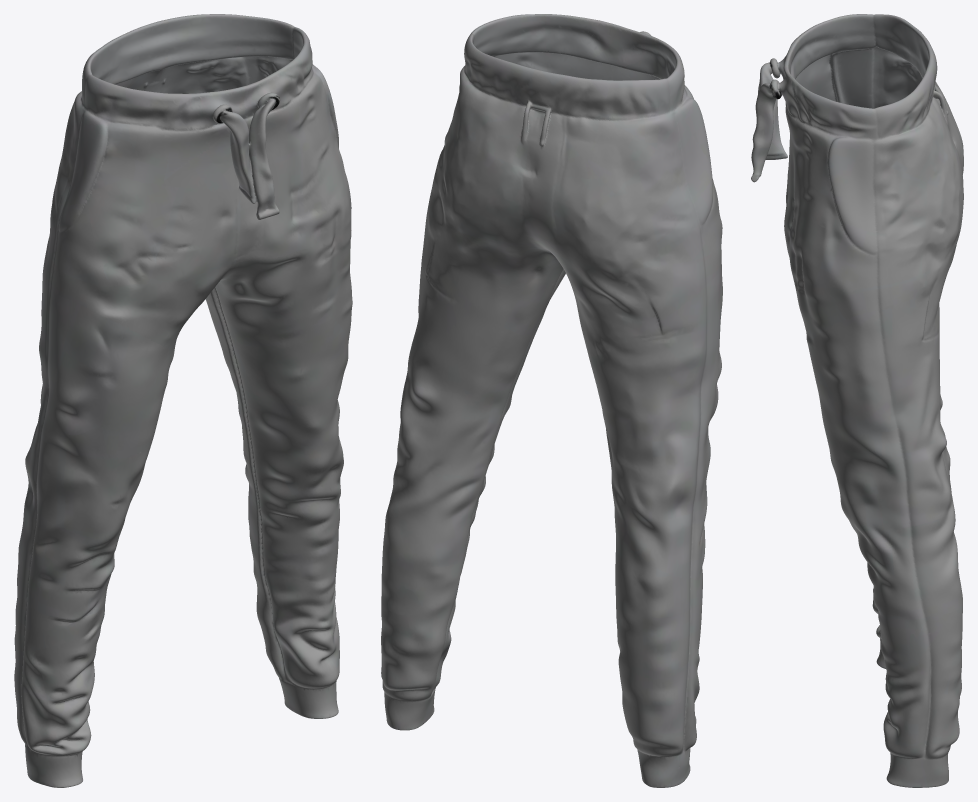
3 views of the same model, side by side, from view 1: azimuth 30°, elevation 25°; view 2: azimuth 150°, elevation 25°; view 3: azimuth 270°, elevation 25° (orthographic). The views are drawn at different scales.
Parts seen in each view (by area): view 1: mesh_node; view 2: mesh_node; view 3: mesh_node.
Boxes of the visible parts, bbox=[...] form: mesh_node: bbox=[14, 14, 352, 787]; mesh_node: bbox=[381, 14, 722, 787]; mesh_node: bbox=[751, 14, 963, 787].
Size of the model in its own units: 0.877 by 1.9 by 0.5538.
Materials: 1 (1 with a texture image).
